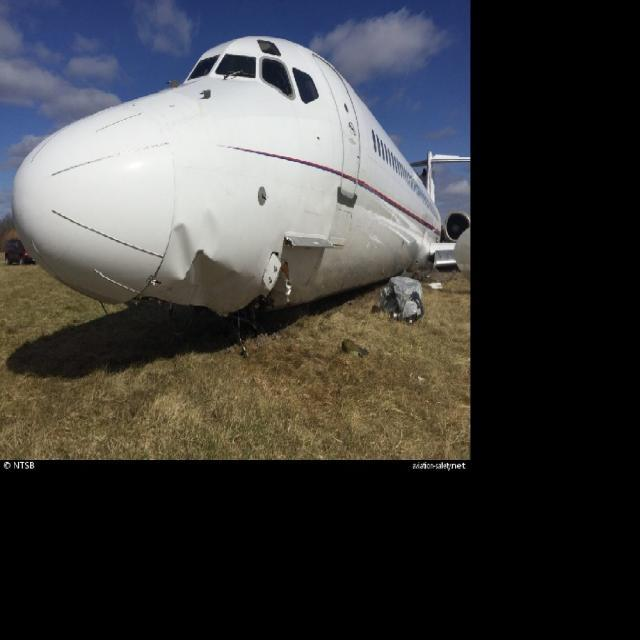dent: (170, 223, 199, 279), (204, 212, 220, 255)
